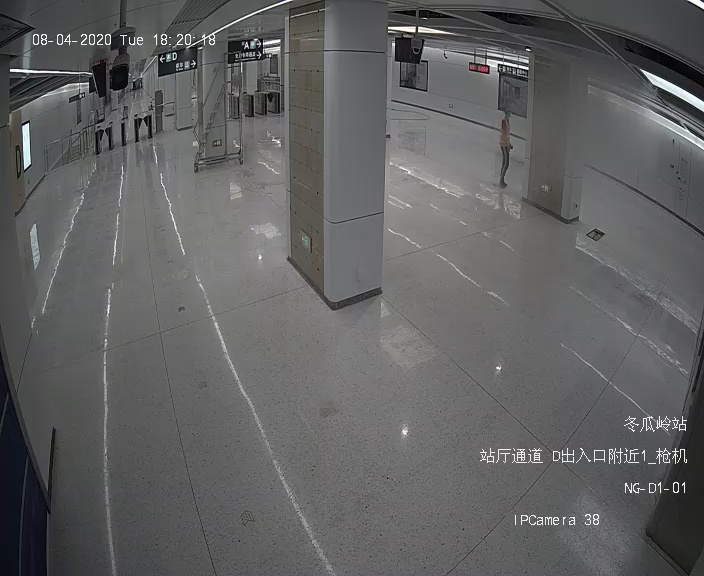smoke: (583, 105, 660, 169), (582, 63, 651, 101), (535, 93, 575, 152)
